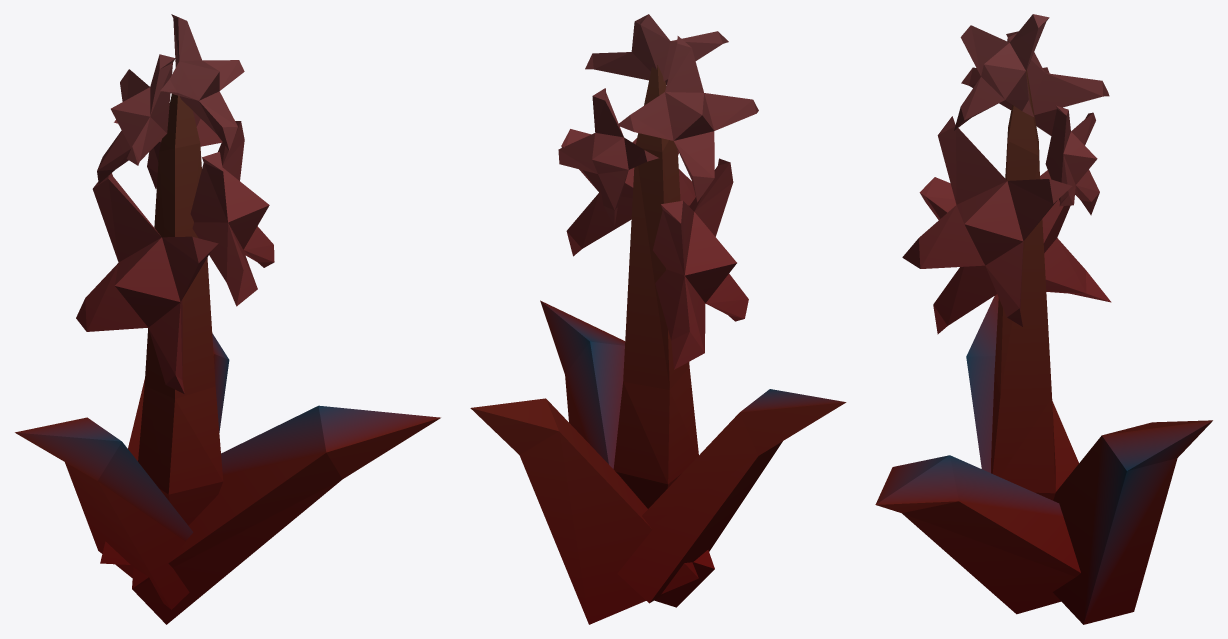
Rendered from synty-plant-03.gltf.
The picture shows the model from 3 angles, left to right: view 1: azimuth 30°, elevation 25°; view 2: azimuth 150°, elevation 25°; view 3: azimuth 270°, elevation 25°; orthographic projection. The views are drawn at different scales.
Parts seen in each view (by area): view 1: SM_Plant_03; view 2: SM_Plant_03; view 3: SM_Plant_03.
Boxes of the visible parts, <box> form: SM_Plant_03: <box>15,14,440,624</box>; SM_Plant_03: <box>470,14,846,624</box>; SM_Plant_03: <box>875,14,1212,624</box>.
Bounding box in the file's own units: 0.5243 × 0.8136 × 0.4086.
1 material, 1 textured.
